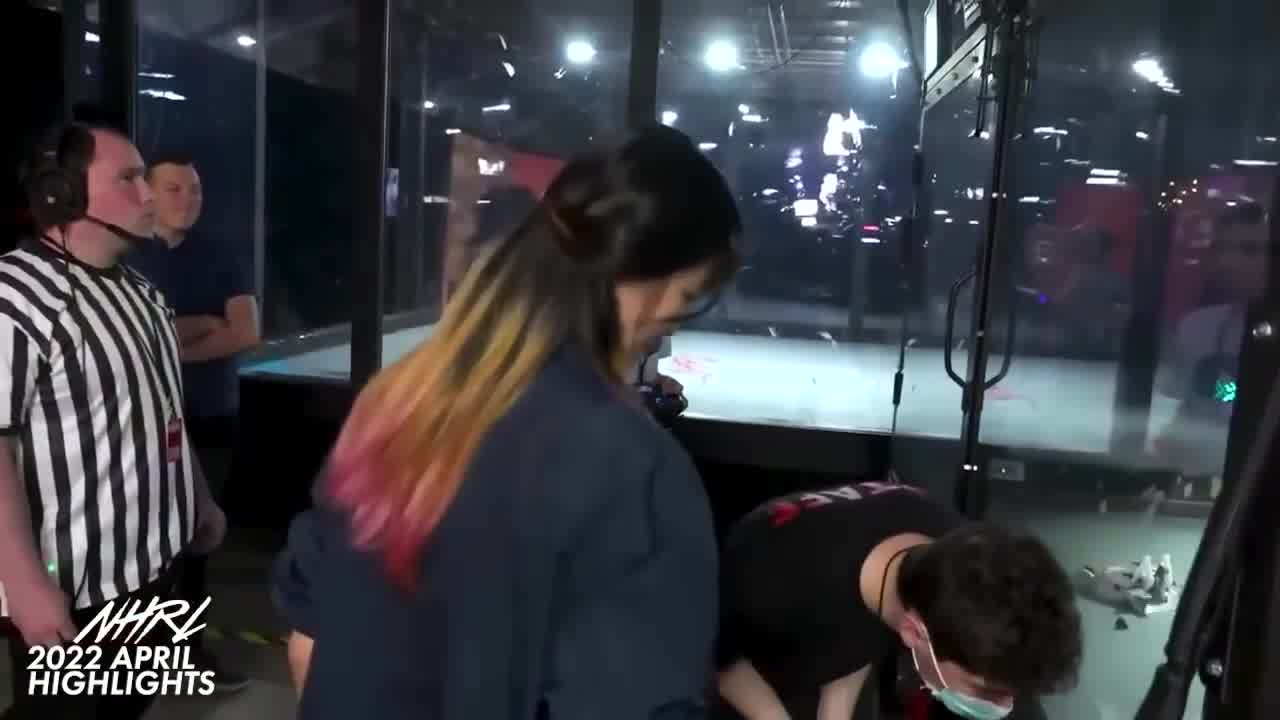combatbot: (1070, 550, 1183, 620)
